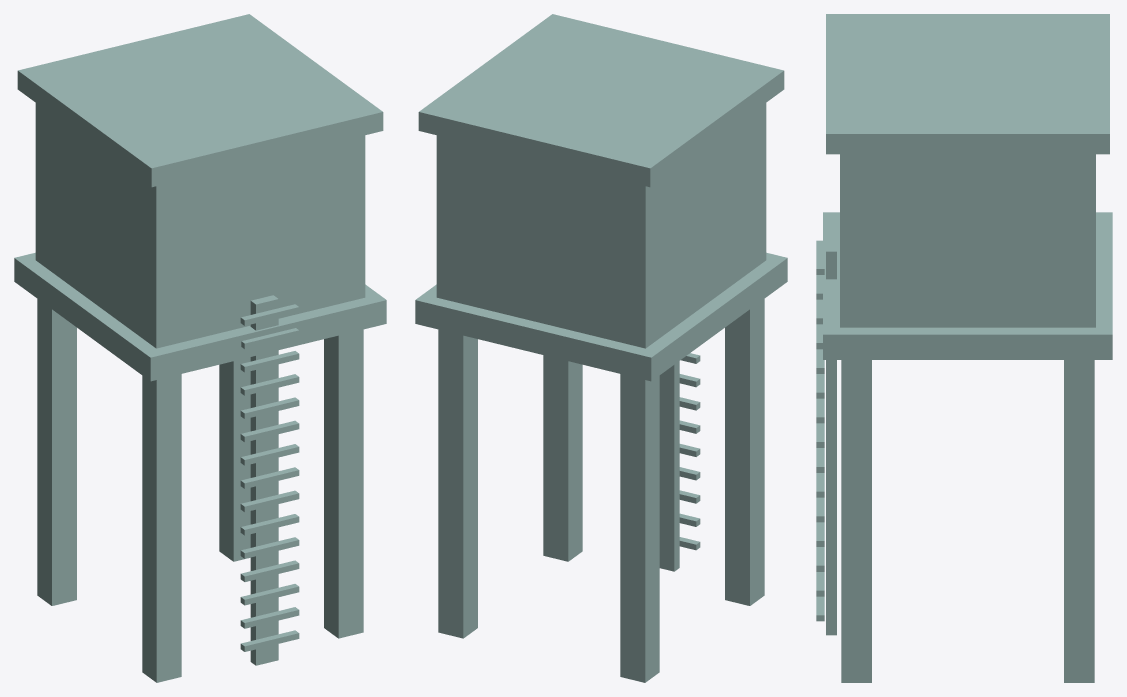
Rendered from water_tower.glb.
The picture shows the model from 3 angles, left to right: view 1: azimuth 30°, elevation 25°; view 2: azimuth 150°, elevation 25°; view 3: azimuth 270°, elevation 25°; orthographic projection. The views are drawn at different scales.
Visible parts, largest first — view 1: WaterTower; view 2: WaterTower; view 3: WaterTower.
Boxes of the visible parts, box(x1,y1,x2,y2) form: WaterTower: box(14, 14, 386, 682); WaterTower: box(415, 14, 787, 682); WaterTower: box(816, 14, 1112, 682).
Size of the model in its own units: 5.2 by 11 by 5.32.
